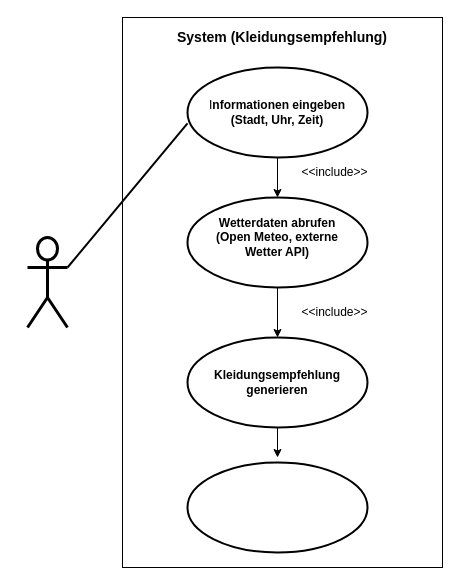
Image size: 460x585. Some labels were removed from this diagram. Here are the shapes that lost their labels. From the top down, the box of each, then its label:
(26, 236, 68, 328): Benutzer
(186, 461, 368, 553): Empfehlung anzeigen
